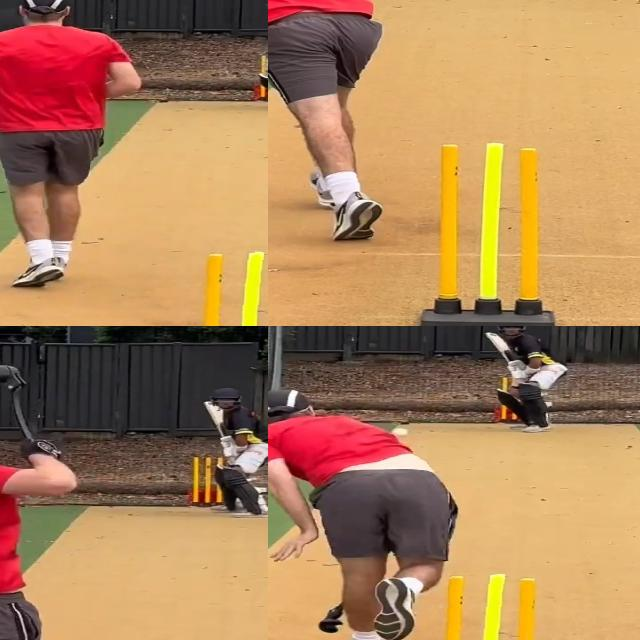Cricket ball: (392, 427, 409, 437)
Stumps: (420, 141, 560, 326), (429, 573, 554, 640), (187, 250, 268, 326), (189, 456, 225, 507)
